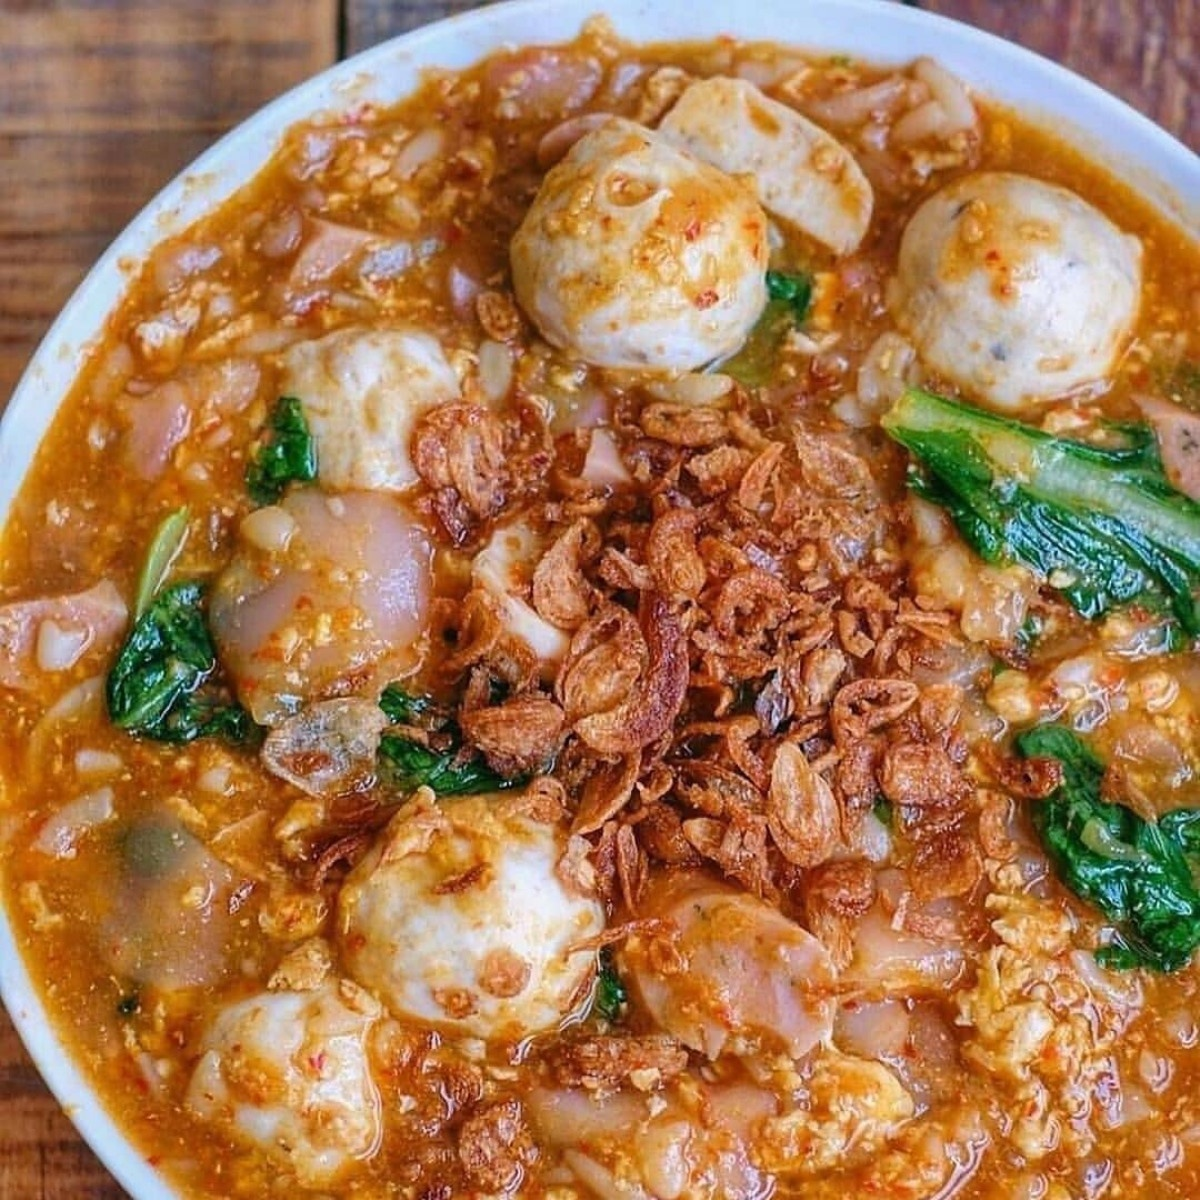seblak: (8, 43, 1200, 1200)
